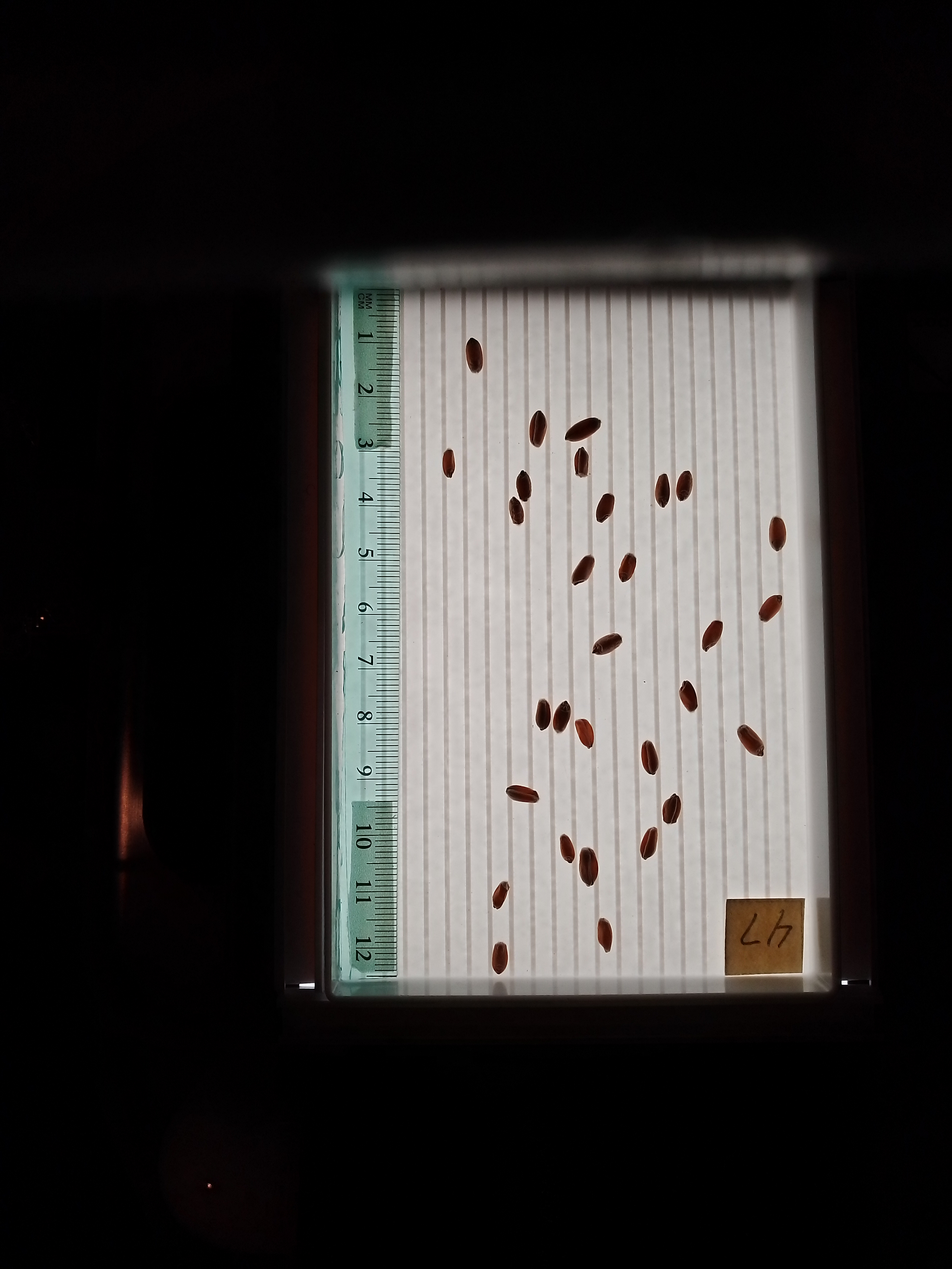seed mask: (737, 725, 765, 756), (566, 417, 600, 442), (579, 848, 598, 886), (572, 556, 594, 585), (529, 412, 547, 447), (702, 621, 723, 651), (759, 595, 782, 622), (769, 517, 787, 551), (506, 785, 538, 803), (575, 718, 594, 748), (466, 339, 483, 372), (593, 634, 621, 654), (553, 702, 571, 733), (640, 828, 658, 859), (641, 742, 658, 774), (680, 682, 698, 712), (663, 795, 681, 824), (655, 475, 671, 507), (492, 942, 508, 974), (596, 494, 614, 522), (619, 554, 637, 582), (516, 471, 532, 502), (492, 882, 509, 910), (574, 448, 590, 477), (536, 700, 551, 730), (598, 919, 612, 951), (677, 471, 692, 500), (509, 497, 524, 525), (560, 835, 575, 863), (443, 450, 455, 477)
